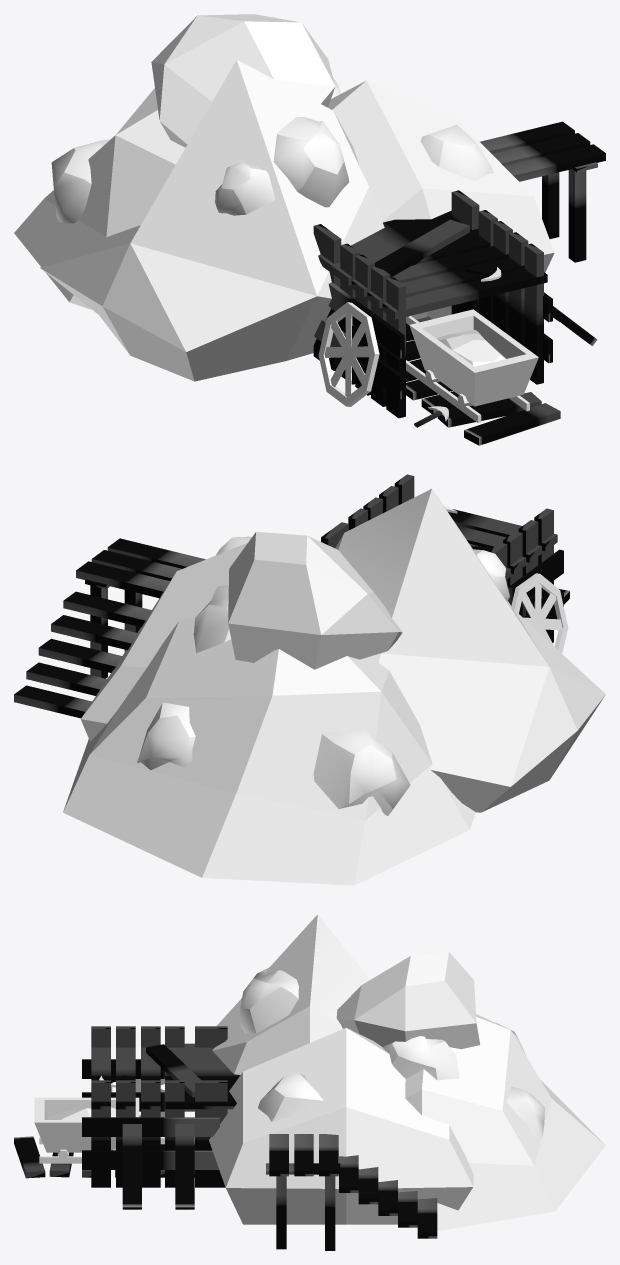
File: GoldMineV1.fbx
The picture shows the model from 3 angles, top to bottom: view 1: azimuth 30°, elevation 25°; view 2: azimuth 150°, elevation 25°; view 3: azimuth 270°, elevation 25°; orthographic projection. The views are drawn at different scales.
Visible parts, largest first — view 1: GoldMine, polySurface1261, polySurface1263; view 2: GoldMine; view 3: GoldMine, polySurface1261.
Part boxes in pixels (x1,y1,x2,y2): GoldMine: (14, 14, 605, 445); polySurface1261: (409, 309, 538, 406); polySurface1263: (436, 329, 505, 366); GoldMine: (14, 474, 605, 885); GoldMine: (14, 914, 605, 1250); polySurface1261: (34, 1097, 139, 1152).
Size of the model in its own units: 322 by 170 by 430.
1 material, 1 textured.
